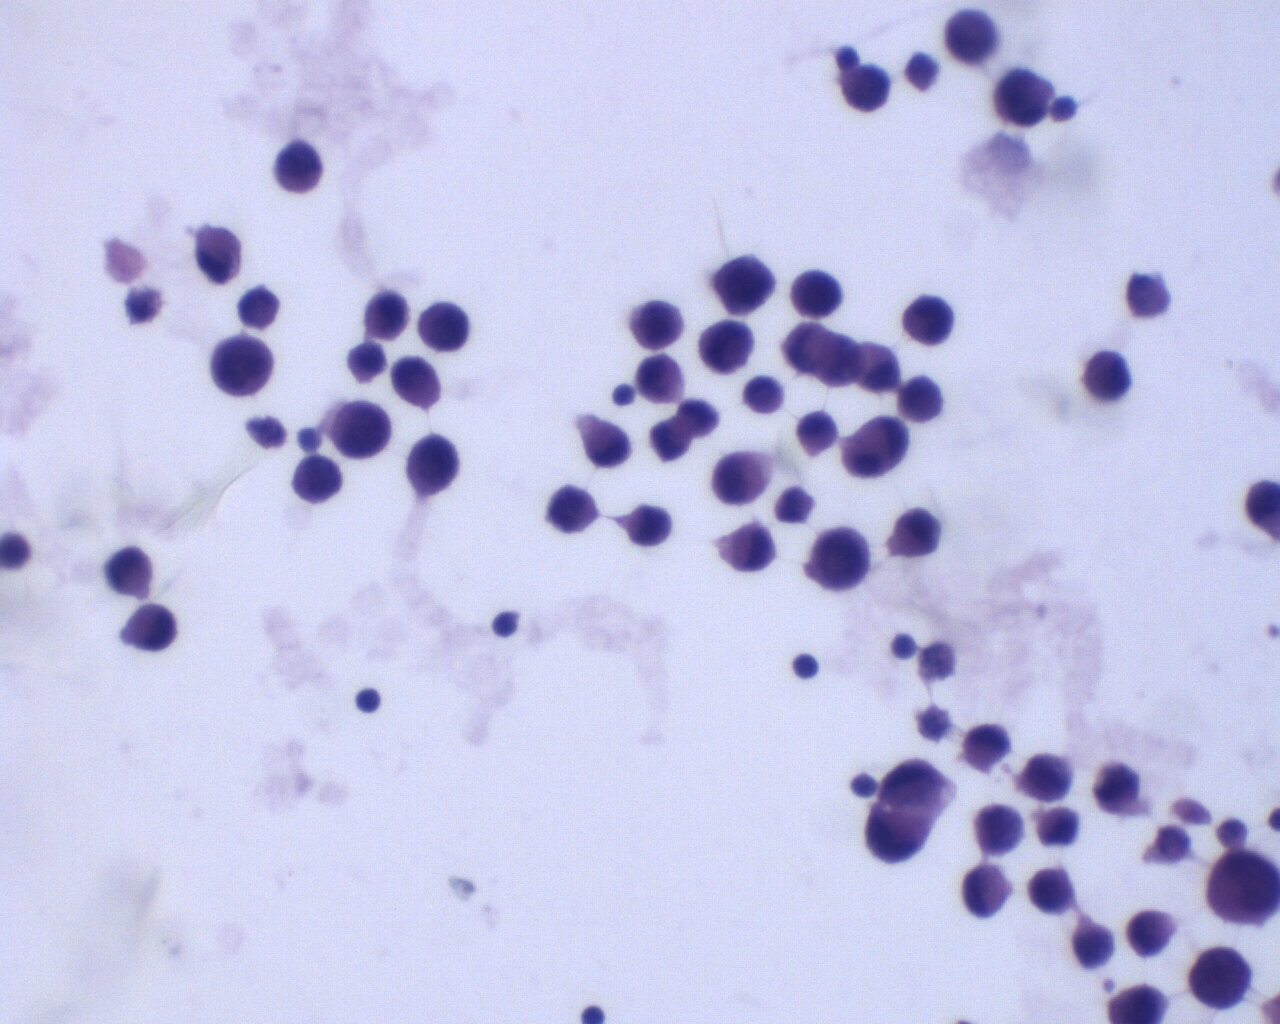ab: (1206, 852, 1280, 932), (805, 525, 875, 595), (208, 333, 276, 400), (1188, 944, 1256, 1010), (860, 805, 931, 865), (987, 66, 1053, 129), (331, 398, 393, 461), (405, 432, 460, 497), (629, 295, 686, 354), (269, 137, 326, 193), (1093, 759, 1146, 819), (973, 800, 1028, 857), (417, 299, 471, 355), (1067, 915, 1119, 972), (292, 453, 345, 508), (1020, 752, 1077, 802), (544, 484, 600, 535), (1027, 862, 1076, 920), (841, 63, 893, 112), (626, 499, 674, 550)
lymph: (709, 254, 776, 318), (696, 319, 757, 376), (901, 294, 959, 346), (788, 267, 844, 321), (897, 373, 946, 427), (485, 607, 523, 643), (791, 648, 821, 684), (355, 684, 383, 715)
